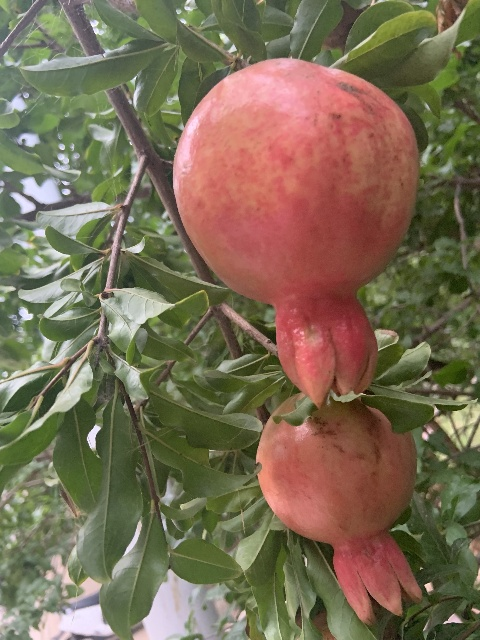ripe: (172, 58, 420, 412), (254, 394, 423, 623)
